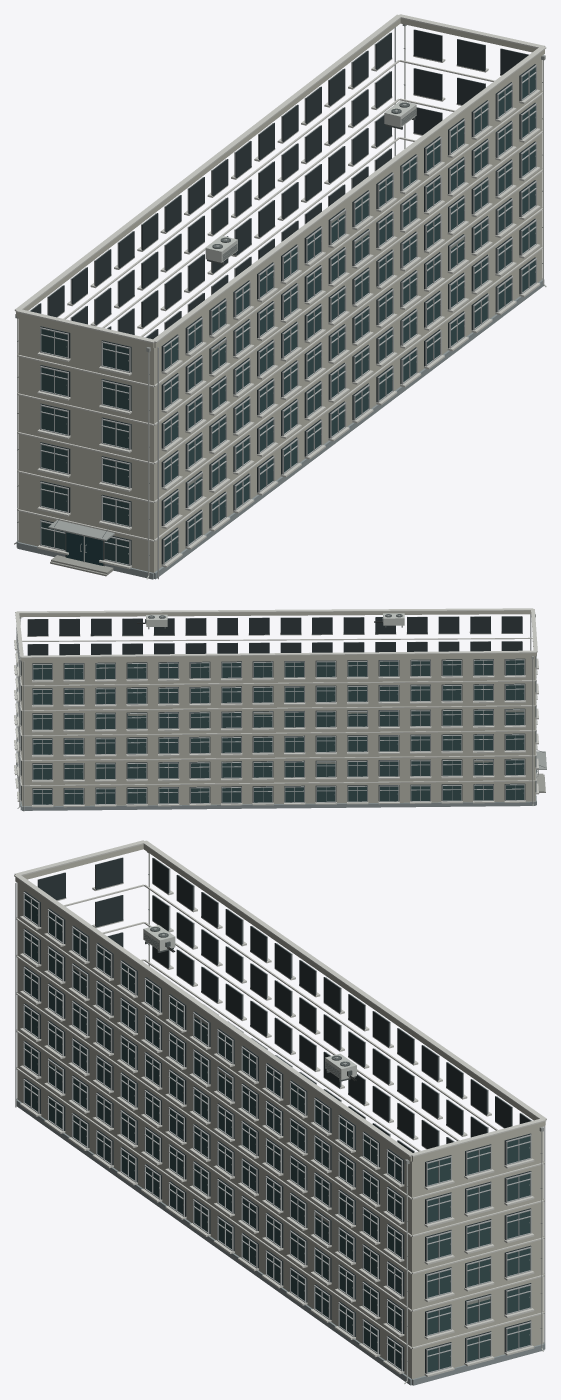
File: osm_way_1173057025.glb
3 renders of one model, top to bottom at view 1: azimuth 30°, elevation 25°; view 2: azimuth 150°, elevation 25°; view 3: azimuth 270°, elevation 25°, orthographic. The views are drawn at different scales.
Visible parts, largest first — view 1: Windows and facade details | osm_way_1173057025, Architecture | osm_way_1173057025, Roof services | osm_way_1173057025, EXTERIOR::osm_way_1173057025::rainwater and roof service det, EXTERIOR::osm_way_1173057025::inferred entry doors canopy an; view 2: Windows and facade details | osm_way_1173057025, Architecture | osm_way_1173057025, Roof services | osm_way_1173057025, EXTERIOR::osm_way_1173057025::rainwater and roof service det, EXTERIOR::osm_way_1173057025::inferred entry doors canopy an, EXTERIOR::osm_way_1173057025::native pane seals and hardware; view 3: Windows and facade details | osm_way_1173057025, Architecture | osm_way_1173057025, Roof services | osm_way_1173057025, EXTERIOR::osm_way_1173057025::rainwater and roof service det.
Part boxes in pixels (<box>): Windows and facade details | osm_way_1173057025: <box>29,27,540,579</box>; Architecture | osm_way_1173057025: <box>16,18,544,579</box>; Roof services | osm_way_1173057025: <box>14,14,546,343</box>; EXTERIOR::osm_way_1173057025::rainwater and roof service det: <box>14,24,546,579</box>; EXTERIOR::osm_way_1173057025::inferred entry doors canopy an: <box>48,515,114,576</box>; Windows and facade details | osm_way_1173057025: <box>14,614,538,811</box>; Architecture | osm_way_1173057025: <box>16,610,536,810</box>; Roof services | osm_way_1173057025: <box>15,608,537,657</box>; EXTERIOR::osm_way_1173057025::rainwater and roof service det: <box>17,613,535,808</box>; EXTERIOR::osm_way_1173057025::inferred entry doors canopy an: <box>536,750,546,793</box>; EXTERIOR::osm_way_1173057025::native pane seals and hardware: <box>82,668,524,797</box>; Windows and facade details | osm_way_1173057025: <box>15,857,545,1376</box>; Architecture | osm_way_1173057025: <box>15,844,545,1385</box>; Roof services | osm_way_1173057025: <box>14,840,546,1156</box>; EXTERIOR::osm_way_1173057025::rainwater and roof service det: <box>143,852,543,1383</box>.
Bounding box in the file's own units: 57.97 × 20.58 × 41.34.
